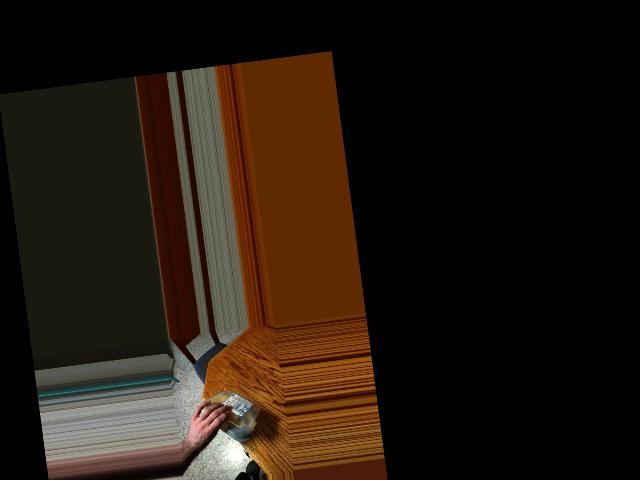cheese: (193, 385, 264, 445)
